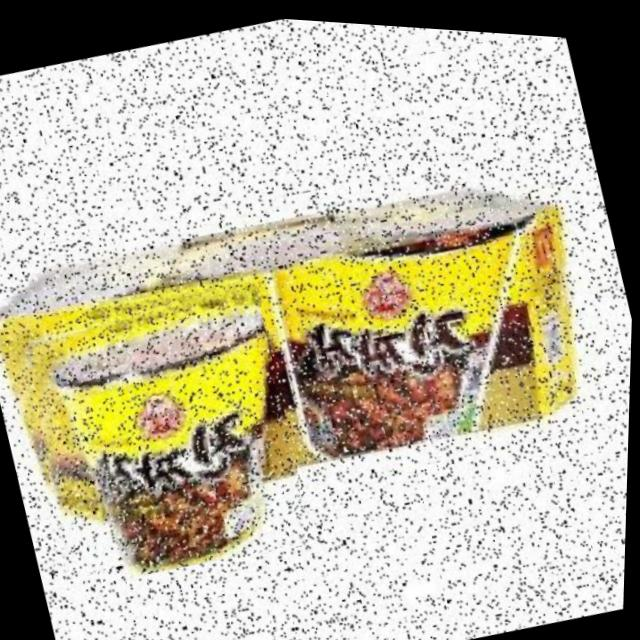Miscellaneous: (0, 258, 323, 602)
